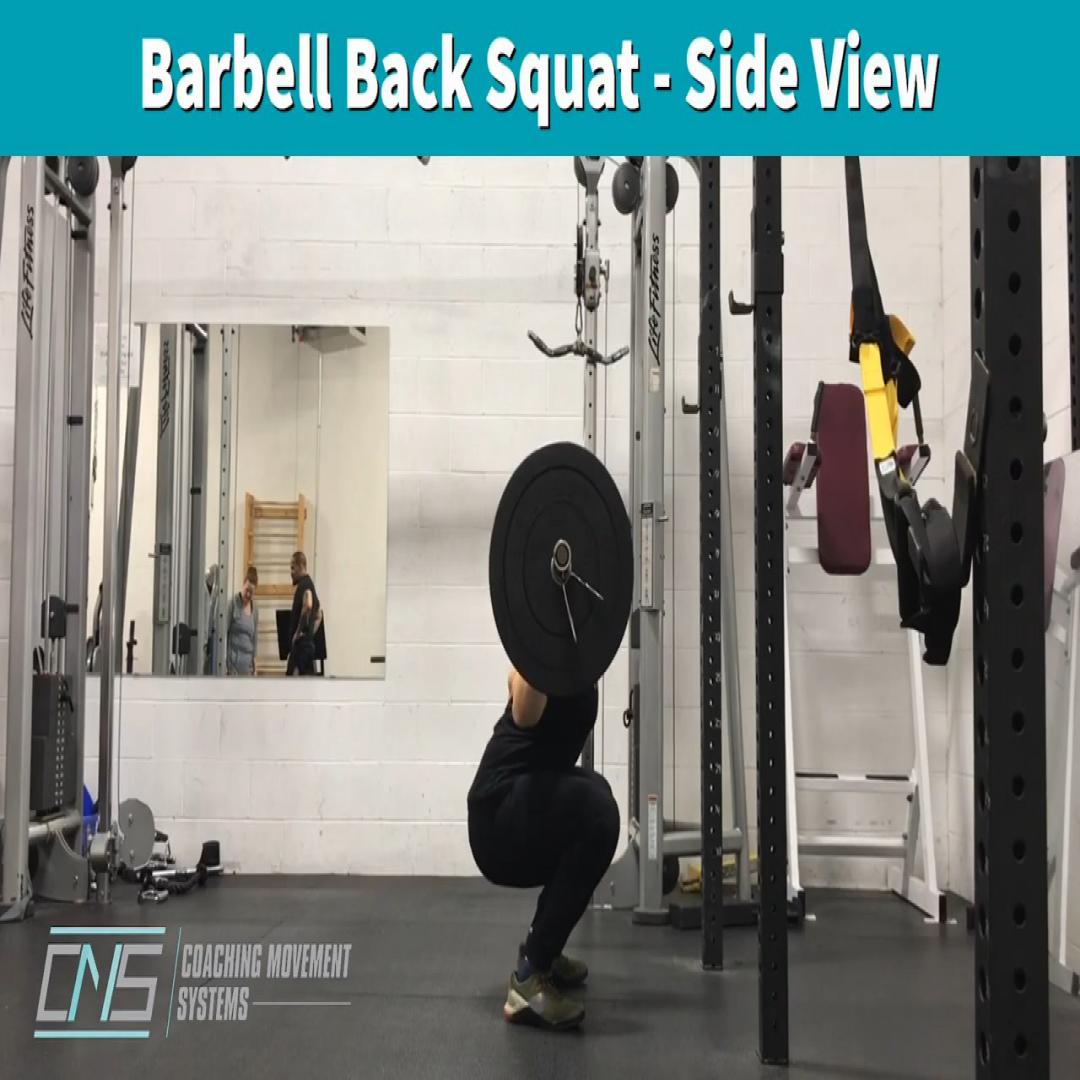Bar: (556, 540, 570, 572)
Barbell: (489, 441, 633, 696)
